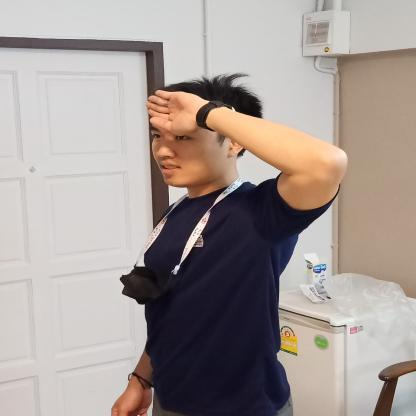Sick: (137, 72, 354, 218)
